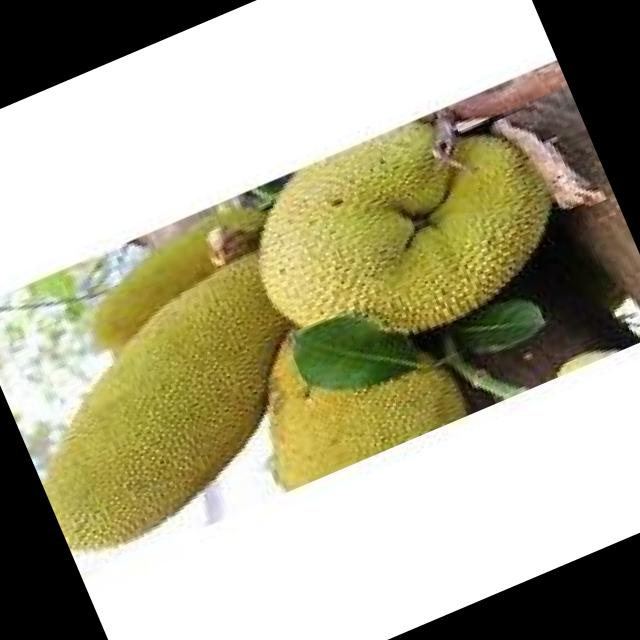Fruit: (216, 71, 611, 411), (0, 228, 368, 578)
